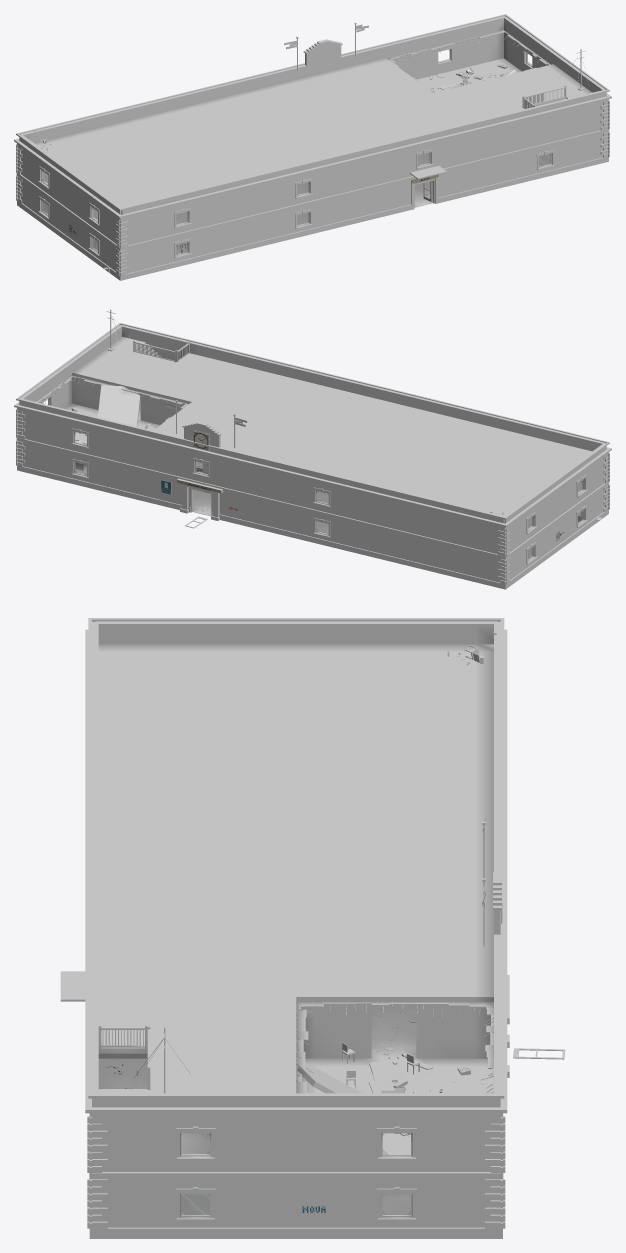
Rendered from town_hall.glb.
3 renders of one model, top to bottom at view 1: azimuth 30°, elevation 25°; view 2: azimuth 150°, elevation 25°; view 3: azimuth 270°, elevation 25°, orthographic. The views are drawn at different scales.
Visible parts, largest first — view 1: town_hall; view 2: town_hall; view 3: town_hall.
Part boxes in pixels (box(x1,y1,x2,y2)): town_hall: box(14, 14, 611, 280); town_hall: box(14, 309, 611, 589); town_hall: box(60, 618, 565, 1238).
Bounding box in the file's own units: 51.18 × 10.6 × 22.59.
4 materials, 3 textured.
